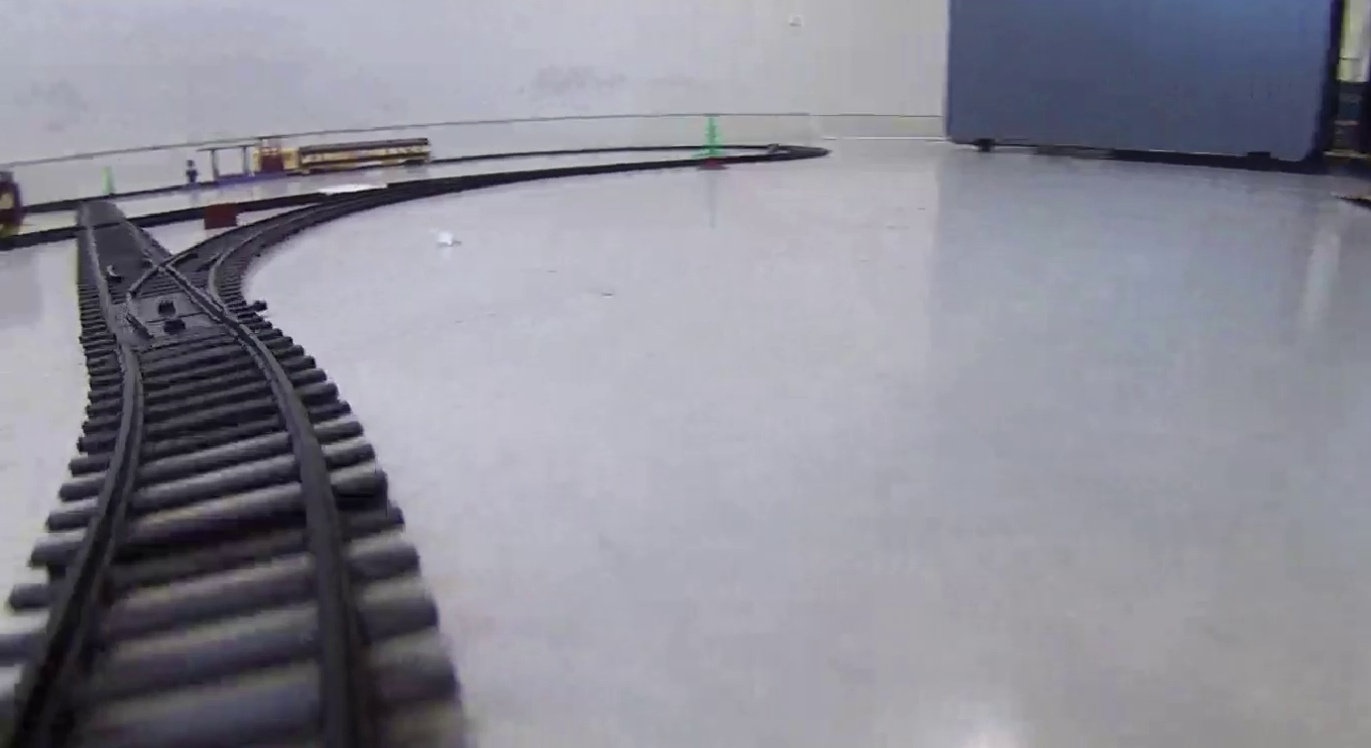box: (202, 203, 238, 229)
